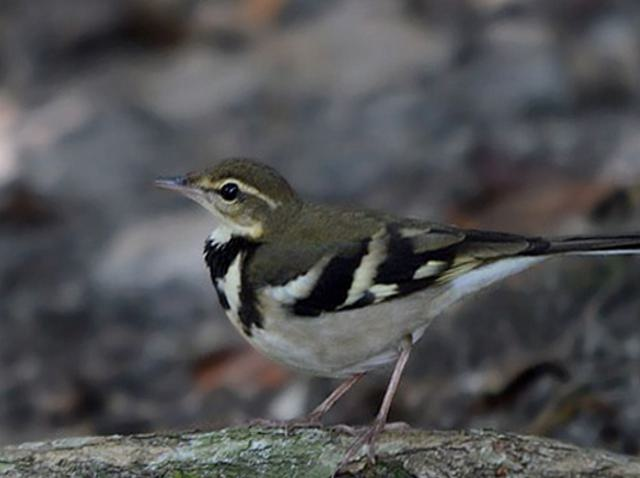wagtail: (147, 135, 523, 425)
